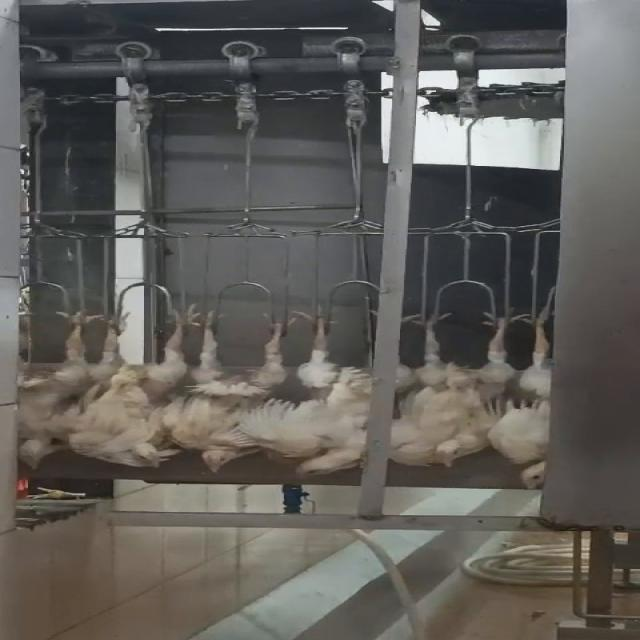chicken: (386, 296, 541, 468), (170, 306, 314, 472), (0, 294, 112, 477), (84, 292, 190, 472), (283, 307, 389, 483), (496, 300, 581, 495)
